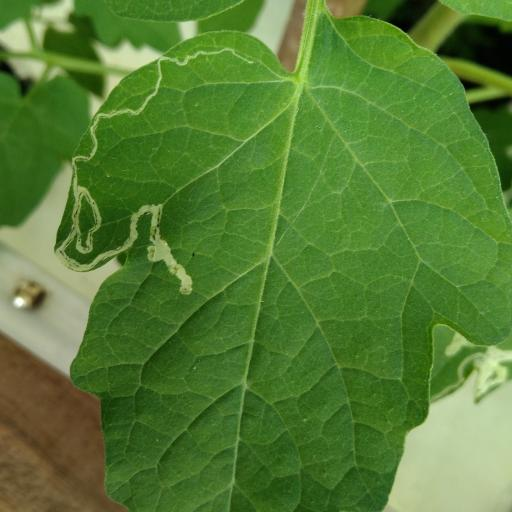disease_tomato: (53, 12, 511, 512)
